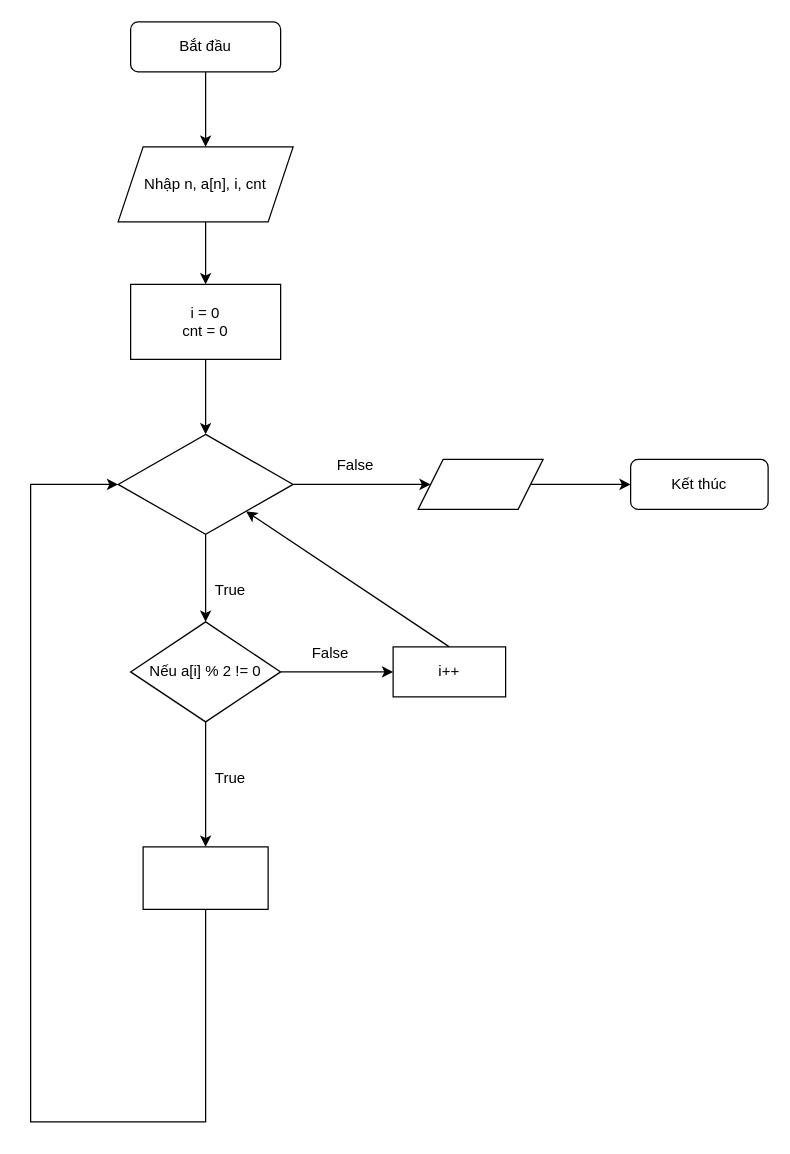
Some shapes in this 790 by 1154 pixel diagram are drawn without their labels. The centre of each missing label's shape, as x and y in pixels:
"cnt++ i++" goes at point (205, 877).
"In ra cnt" goes at point (480, 483).
"Nếu i < n" goes at point (205, 483).
